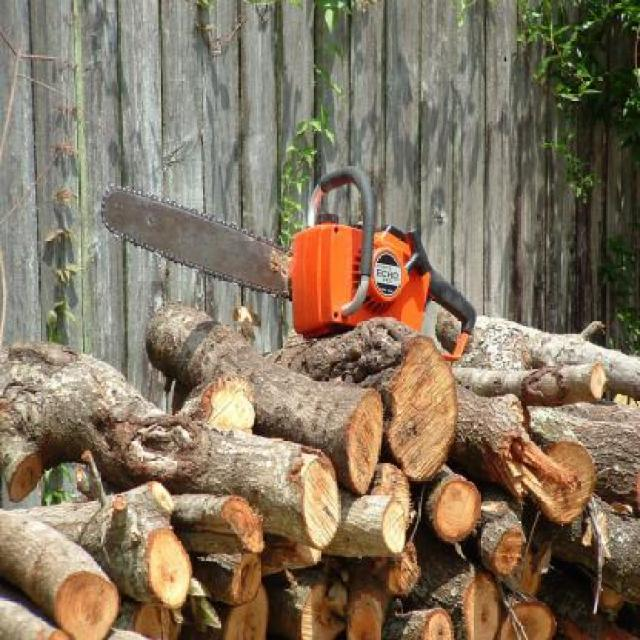Chainsaw: (97, 165, 478, 363)
